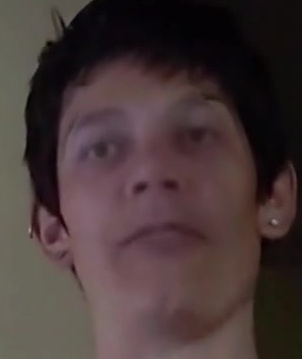eb_f: (58, 91, 253, 180)
